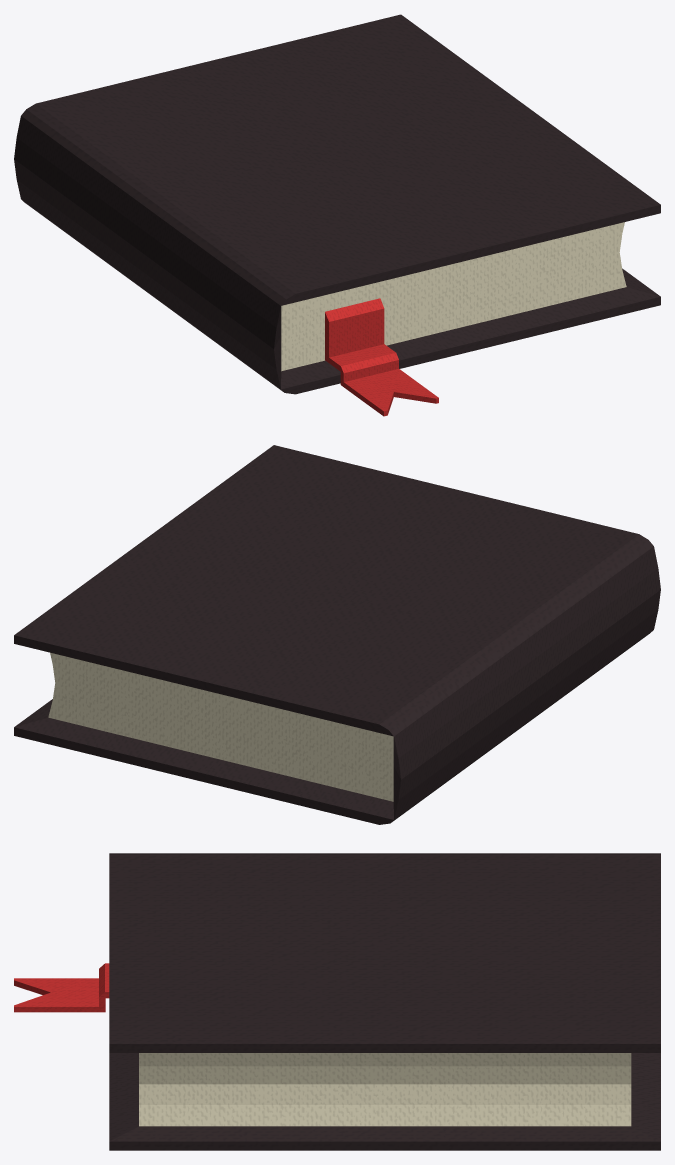
Rendered from book_01.fbx.
3 renders of one model, top to bottom at view 1: azimuth 30°, elevation 25°; view 2: azimuth 150°, elevation 25°; view 3: azimuth 270°, elevation 25°, orthographic. The views are drawn at different scales.
Visible parts, largest first — view 1: Book_01; view 2: Book_01; view 3: Book_01.
Part boxes in pixels (x1=…): Book_01: x1=14, y1=14, x2=660, y2=416; Book_01: x1=14, y1=445, x2=660, y2=824; Book_01: x1=14, y1=853, x2=660, y2=1150.
Size of the model in its own units: 224 by 55.61 by 306.
